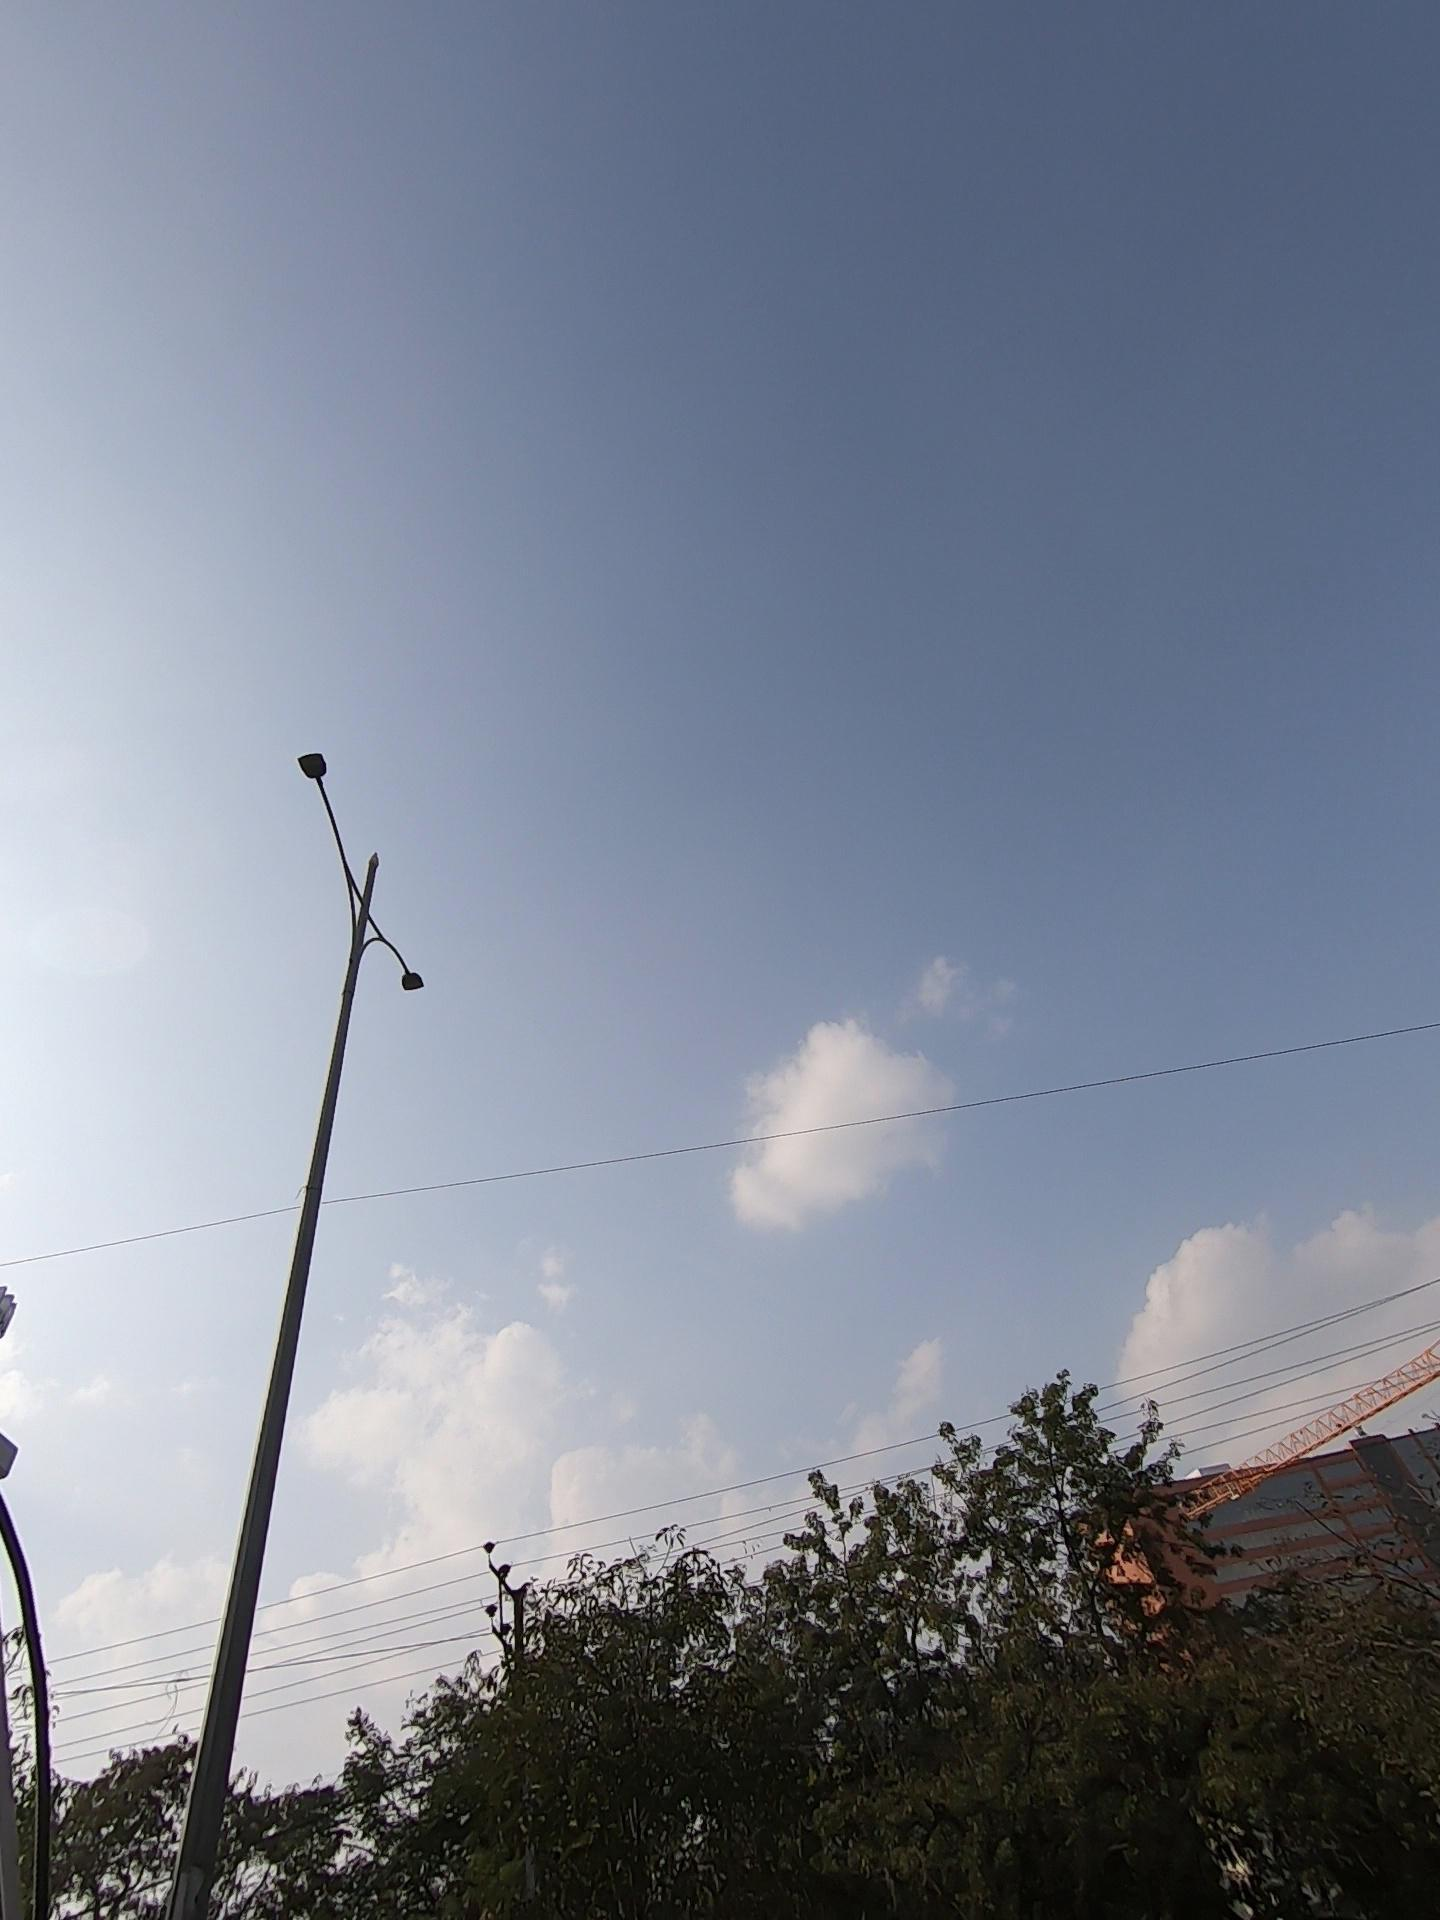off: (194, 705, 625, 1052)
